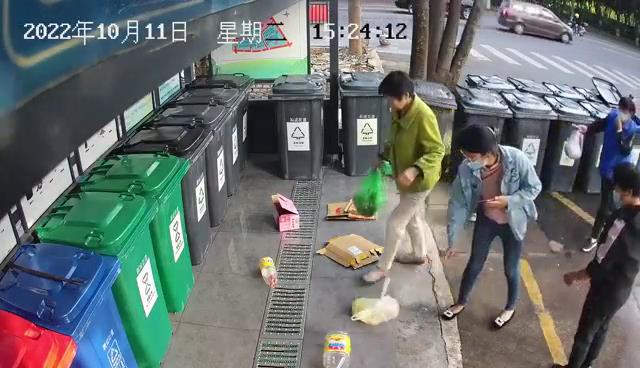garbage-bag: (349, 274, 400, 326), (351, 160, 394, 216), (564, 121, 586, 161)
person: (358, 69, 446, 282), (552, 161, 638, 368)
suliaozhipin: (320, 327, 352, 368), (257, 254, 279, 289)
worker: (440, 121, 543, 329), (575, 94, 640, 253)
zhizhipin: (314, 231, 387, 269), (268, 191, 301, 233), (324, 198, 379, 222)
